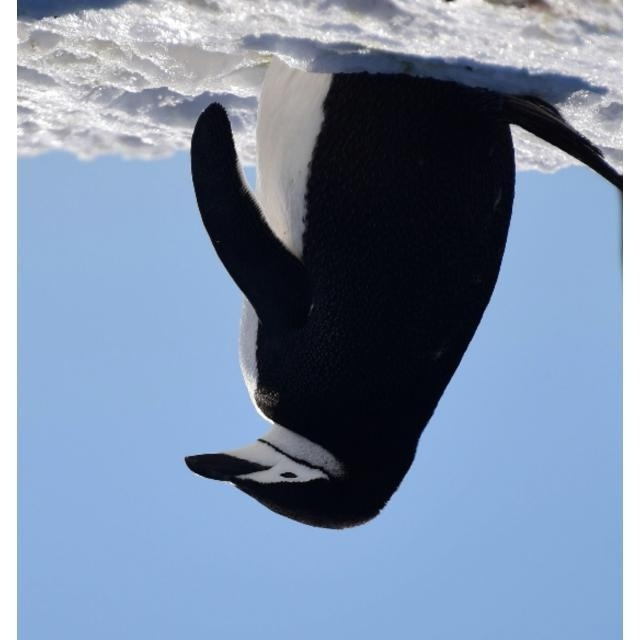penguin: (183, 51, 621, 529)
